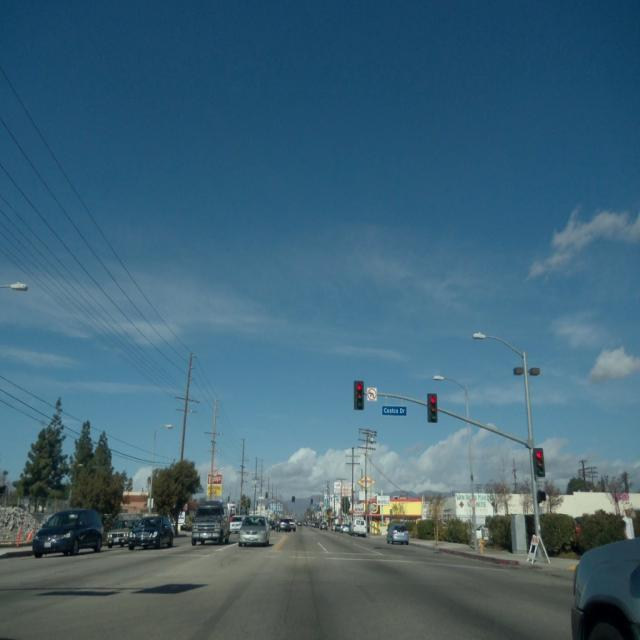traffic light: (534, 448, 545, 478), (355, 379, 364, 410), (429, 393, 438, 421)
